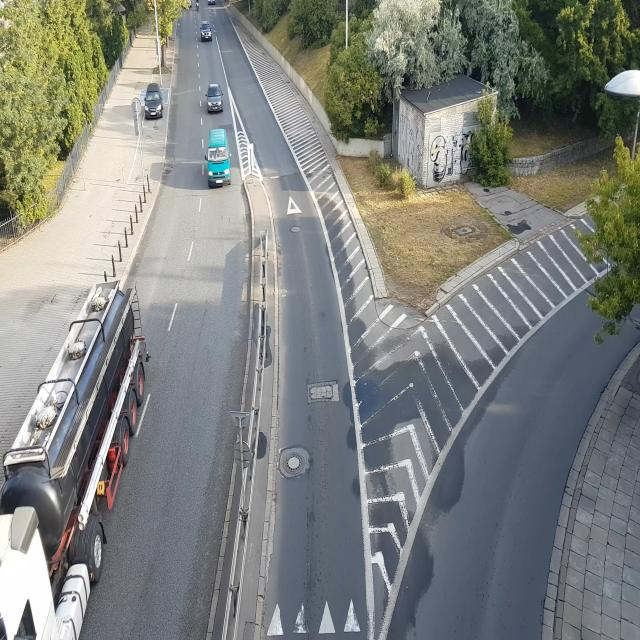car: (205, 129, 232, 188), (143, 85, 165, 118), (205, 85, 224, 113), (199, 23, 213, 41)
truck: (1, 284, 151, 640)
